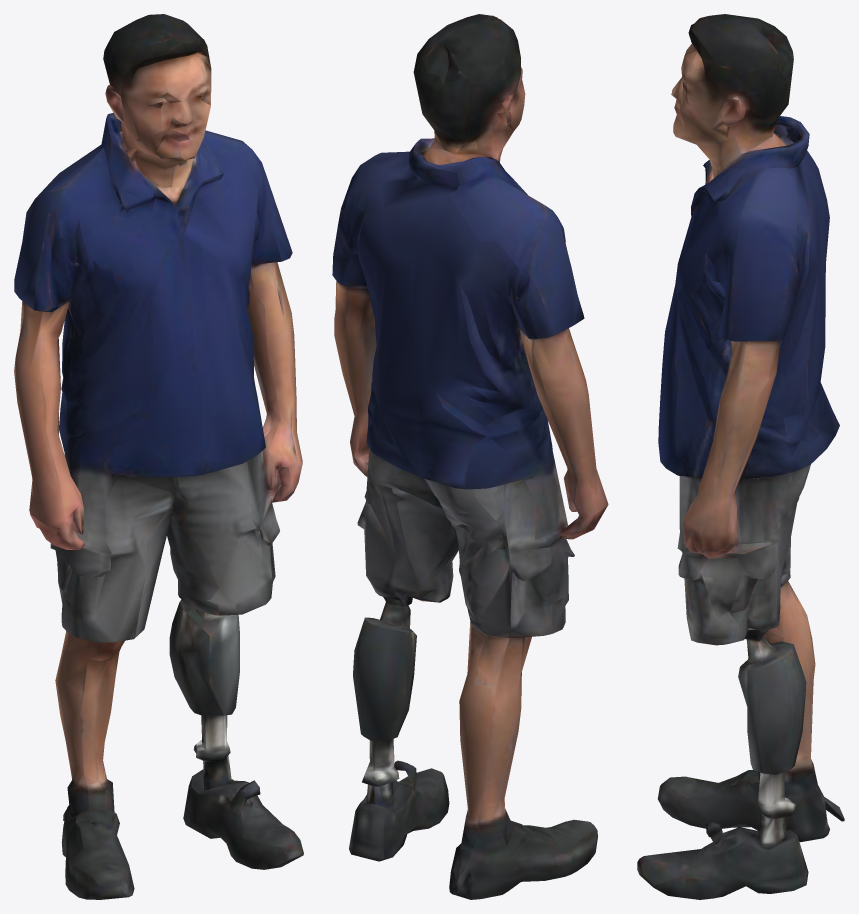
File: person_16.glb
3 views of the same model, side by side, from view 1: azimuth 30°, elevation 25°; view 2: azimuth 150°, elevation 25°; view 3: azimuth 270°, elevation 25° (orthographic).
Parts seen in each view (by area): view 1: Human_Rig; view 2: Human_Rig; view 3: Human_Rig.
Boxes of the visible parts, <box> form: Human_Rig: <box>14,14,303,899</box>; Human_Rig: <box>332,14,608,899</box>; Human_Rig: <box>637,14,844,899</box>.
Size of the model in its own units: 0.5611 by 1.72 by 0.3883.
1 material, 1 textured.
